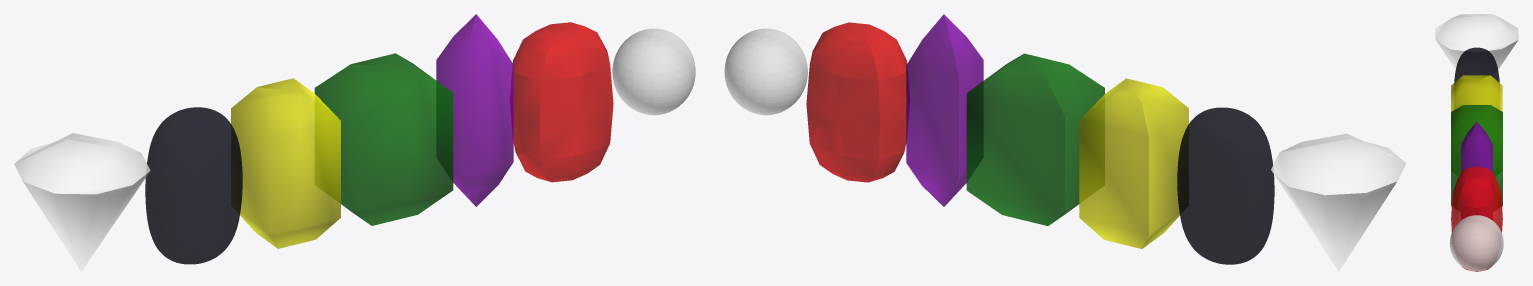
The model's file is export gem.FBX.
The picture shows the model from 3 angles, left to right: view 1: azimuth 30°, elevation 25°; view 2: azimuth 150°, elevation 25°; view 3: azimuth 270°, elevation 25°; orthographic projection. The views are drawn at different scales.
Parts seen in each view (by area): view 1: gem02, gem01, gem04, gem09, gem07, gem03, gem08; view 2: gem02, gem01, gem04, gem09, gem07, gem03, gem08; view 3: gem07, gem04, gem02, gem08, gem01, gem03, gem09.
Part boxes in pixels (bbox=[...]): gem02: bbox=[314, 53, 453, 225]; gem01: bbox=[231, 78, 340, 248]; gem04: bbox=[512, 22, 613, 182]; gem09: bbox=[145, 107, 242, 264]; gem07: bbox=[14, 133, 150, 271]; gem03: bbox=[436, 14, 513, 206]; gem08: bbox=[612, 28, 695, 115]; gem02: bbox=[966, 53, 1104, 225]; gem01: bbox=[1079, 78, 1188, 248]; gem04: bbox=[806, 22, 907, 182]; gem09: bbox=[1177, 107, 1274, 264]; gem07: bbox=[1271, 133, 1406, 271]; gem03: bbox=[906, 14, 983, 206]; gem08: bbox=[724, 28, 807, 115]; gem07: bbox=[1435, 14, 1518, 69]; gem04: bbox=[1451, 166, 1502, 271]; gem02: bbox=[1451, 105, 1502, 206]; gem08: bbox=[1449, 215, 1503, 271]; gem01: bbox=[1451, 75, 1502, 111]; gem03: bbox=[1461, 122, 1492, 172]; gem09: bbox=[1454, 47, 1499, 82].
Bounding box in the file's own units: 3.63 × 1 × 0.6071.
